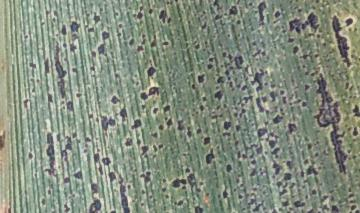tarspot: (311, 70, 352, 176), (329, 11, 355, 66), (51, 41, 70, 101), (287, 12, 322, 35), (42, 127, 57, 180), (117, 171, 131, 213), (87, 179, 104, 213), (247, 66, 264, 94), (97, 110, 117, 133), (138, 84, 164, 101), (60, 139, 75, 162), (233, 51, 247, 74), (131, 4, 147, 24), (170, 176, 187, 193), (256, 1, 268, 25), (137, 168, 154, 184), (253, 94, 266, 114), (143, 62, 159, 78), (117, 103, 130, 122), (204, 146, 217, 165), (305, 163, 320, 179), (187, 176, 200, 194), (71, 166, 85, 182), (286, 121, 299, 138), (211, 88, 226, 102), (96, 42, 109, 58), (254, 125, 270, 138), (42, 55, 51, 77), (157, 7, 168, 25), (254, 139, 265, 157), (122, 135, 136, 149), (69, 16, 82, 31), (108, 92, 121, 106), (271, 111, 284, 125), (247, 166, 261, 179), (63, 98, 75, 113), (351, 102, 360, 122), (272, 159, 282, 177), (251, 50, 269, 60), (243, 196, 258, 208), (174, 116, 184, 133), (233, 108, 250, 118), (94, 163, 107, 176), (25, 148, 37, 162), (130, 117, 142, 131), (195, 71, 207, 85), (281, 171, 295, 183), (106, 168, 117, 183), (58, 22, 69, 37), (268, 147, 284, 157), (222, 162, 234, 175), (221, 119, 233, 132), (308, 185, 320, 198), (283, 159, 296, 171), (1, 128, 8, 150), (68, 31, 82, 42), (292, 198, 306, 209), (278, 197, 292, 208), (150, 33, 159, 50), (185, 122, 193, 141), (126, 35, 138, 47), (227, 4, 239, 16), (271, 8, 283, 20), (92, 12, 103, 25), (163, 115, 174, 128), (150, 105, 161, 117), (196, 102, 207, 114), (212, 1, 224, 12), (51, 6, 61, 19), (214, 75, 227, 85), (222, 187, 230, 203), (297, 167, 305, 183), (45, 89, 54, 103), (62, 173, 71, 187), (275, 188, 289, 197), (269, 89, 278, 103), (86, 62, 97, 73), (299, 97, 310, 108), (26, 58, 38, 68), (43, 184, 53, 196), (91, 151, 101, 163), (161, 102, 173, 112), (138, 145, 150, 155), (235, 120, 243, 135), (21, 96, 30, 109), (62, 200, 71, 213), (192, 204, 205, 213), (68, 41, 77, 54), (284, 35, 297, 44), (211, 112, 220, 125), (266, 140, 279, 149), (353, 124, 359, 143), (68, 64, 79, 74), (201, 135, 211, 146), (344, 16, 354, 27), (100, 156, 112, 165), (195, 125, 204, 137), (305, 141, 314, 153), (291, 43, 300, 55), (212, 13, 224, 22), (346, 203, 358, 212), (237, 83, 249, 92), (242, 93, 251, 105), (141, 32, 148, 47), (348, 185, 355, 200), (173, 198, 186, 206), (82, 135, 95, 143), (148, 130, 161, 138), (203, 63, 216, 71), (242, 149, 250, 162), (85, 110, 95, 120), (183, 165, 193, 175), (223, 68, 233, 78), (214, 101, 224, 111), (320, 192, 330, 202), (43, 6, 52, 17), (88, 48, 97, 59), (159, 38, 170, 47), (199, 19, 208, 30), (329, 204, 340, 213), (220, 131, 234, 138), (84, 25, 96, 33), (234, 148, 242, 160), (270, 206, 283, 213), (74, 90, 84, 99), (39, 197, 49, 206), (113, 9, 122, 19), (207, 54, 216, 64), (249, 38, 258, 48), (301, 52, 309, 63), (303, 82, 311, 93), (275, 180, 284, 189), (5, 203, 13, 213), (71, 129, 79, 139), (112, 72, 122, 80), (162, 192, 172, 200), (157, 141, 165, 151), (329, 192, 337, 202), (135, 135, 142, 146), (203, 189, 211, 198), (80, 147, 89, 155), (157, 123, 166, 131), (234, 17, 242, 26), (225, 30, 233, 39), (250, 157, 258, 166), (200, 8, 208, 17), (215, 191, 222, 201), (147, 6, 154, 16), (311, 51, 321, 58), (167, 14, 173, 25), (116, 22, 124, 30), (203, 39, 211, 47), (234, 175, 242, 183), (200, 95, 209, 102), (161, 175, 168, 184), (190, 195, 199, 202), (193, 41, 200, 50), (351, 152, 358, 161), (322, 41, 329, 50), (126, 182, 132, 192), (62, 40, 68, 50), (140, 103, 146, 113), (277, 106, 287, 112), (159, 186, 167, 193), (197, 178, 205, 185), (141, 187, 147, 196), (137, 201, 146, 207), (295, 7, 304, 13), (251, 187, 261, 192), (22, 34, 29, 41), (236, 193, 243, 200), (279, 89, 286, 96), (221, 50, 227, 58), (303, 71, 311, 77), (247, 1, 254, 7), (233, 82, 240, 88), (312, 1, 322, 4), (164, 115, 167, 121)
